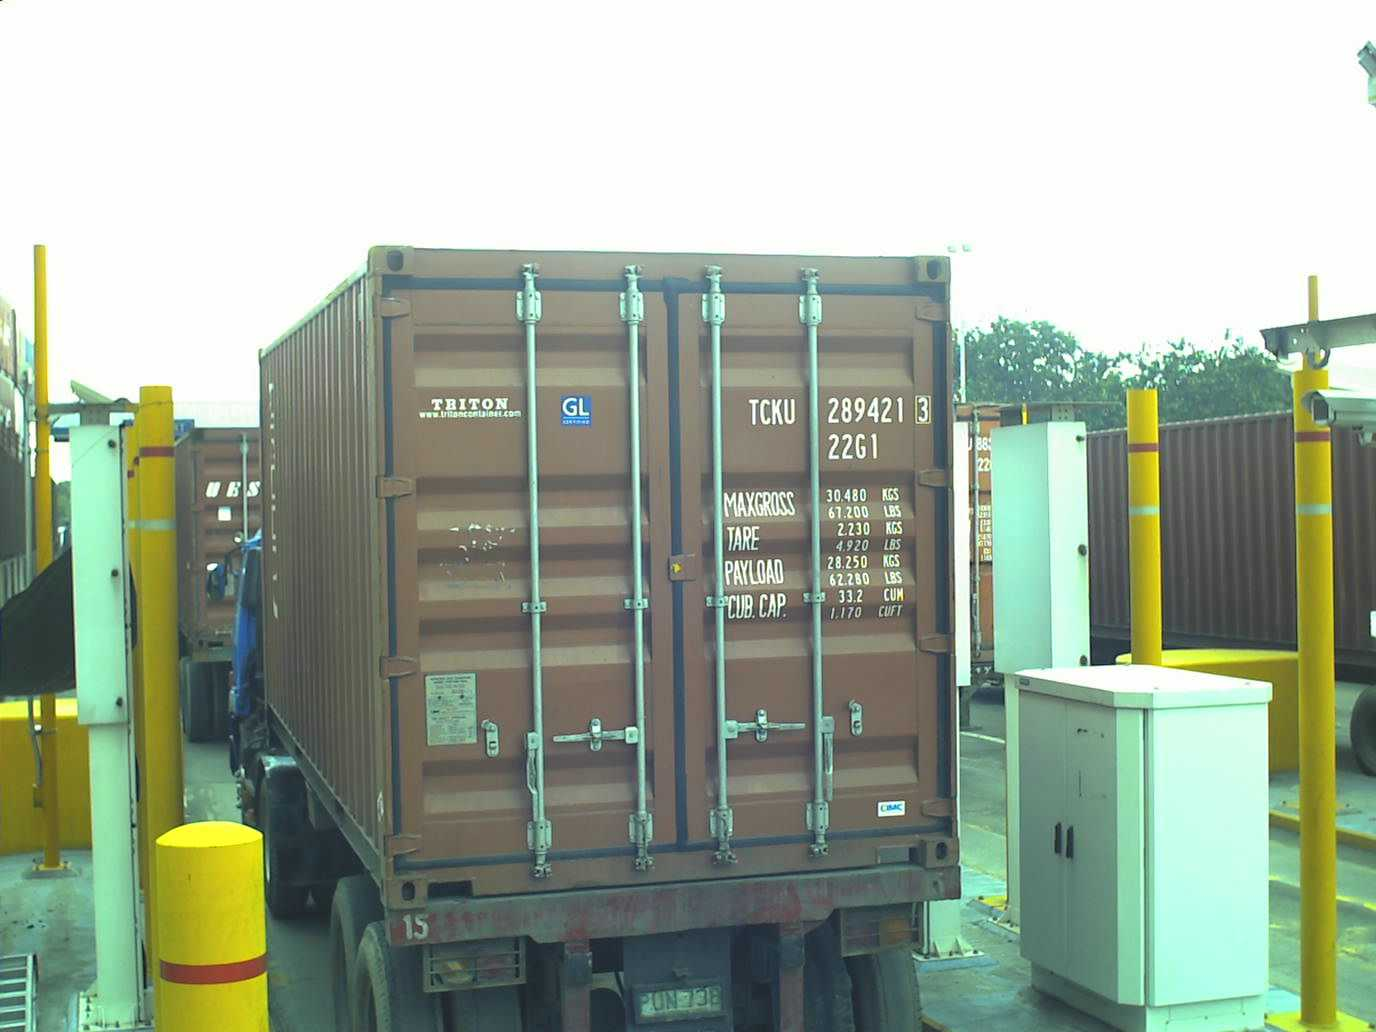container_door: (363, 248, 960, 889)
